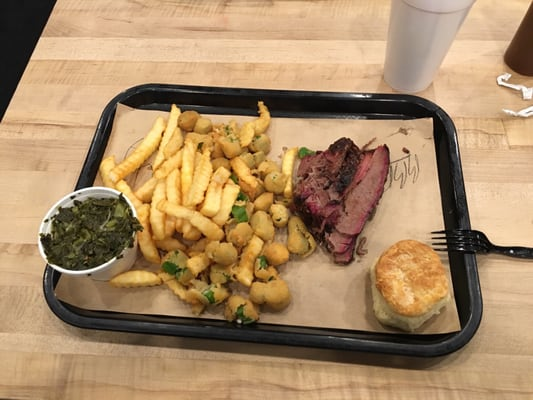sushi: (38, 186, 140, 280)
